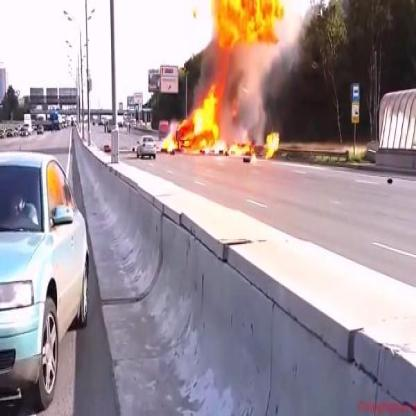fire: (161, 0, 292, 162)
